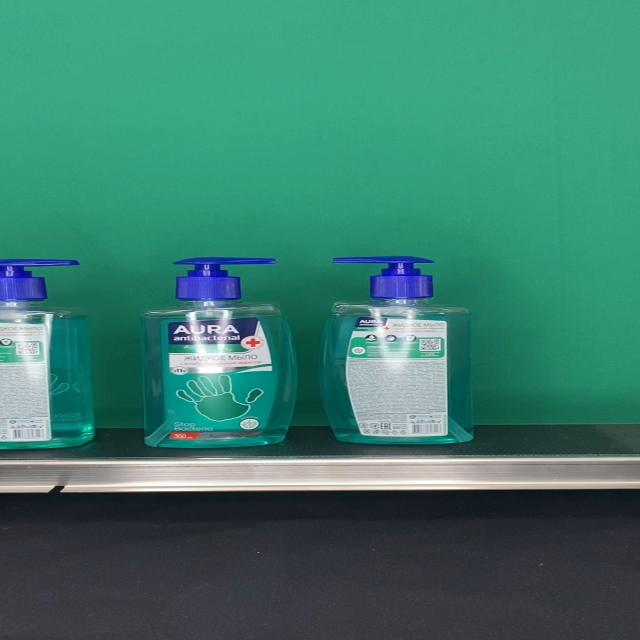Bottle: (138, 257, 298, 447), (320, 256, 474, 445)
Cap: (332, 256, 436, 299), (174, 257, 277, 300)
